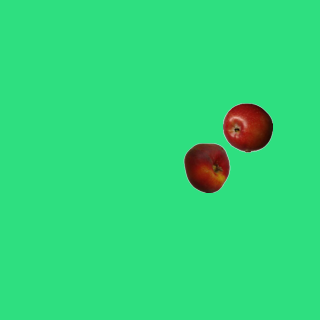Apple Braeburn: (222, 102, 272, 152)
Nectarine Flat: (181, 142, 231, 192)
